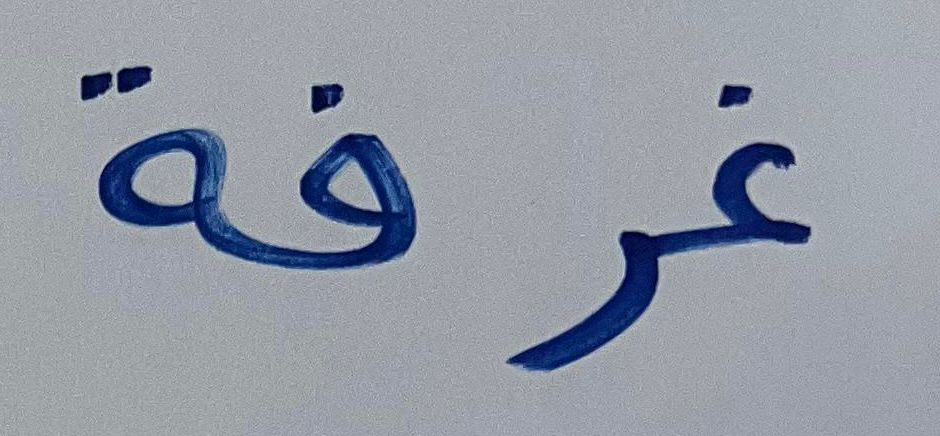ain: (679, 62, 831, 277)
qaf: (263, 58, 442, 305)
reh: (479, 189, 676, 383)
teh_marbota: (46, 47, 255, 298)
